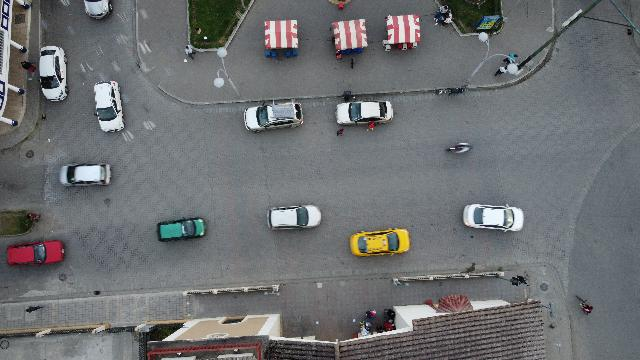Vehiculo: (244, 101, 304, 133), (462, 204, 524, 232), (350, 228, 410, 256), (94, 80, 125, 132), (40, 45, 68, 101), (6, 240, 64, 266), (267, 204, 321, 230), (336, 101, 392, 125), (157, 218, 206, 242), (59, 164, 111, 186), (84, 0, 112, 20)
